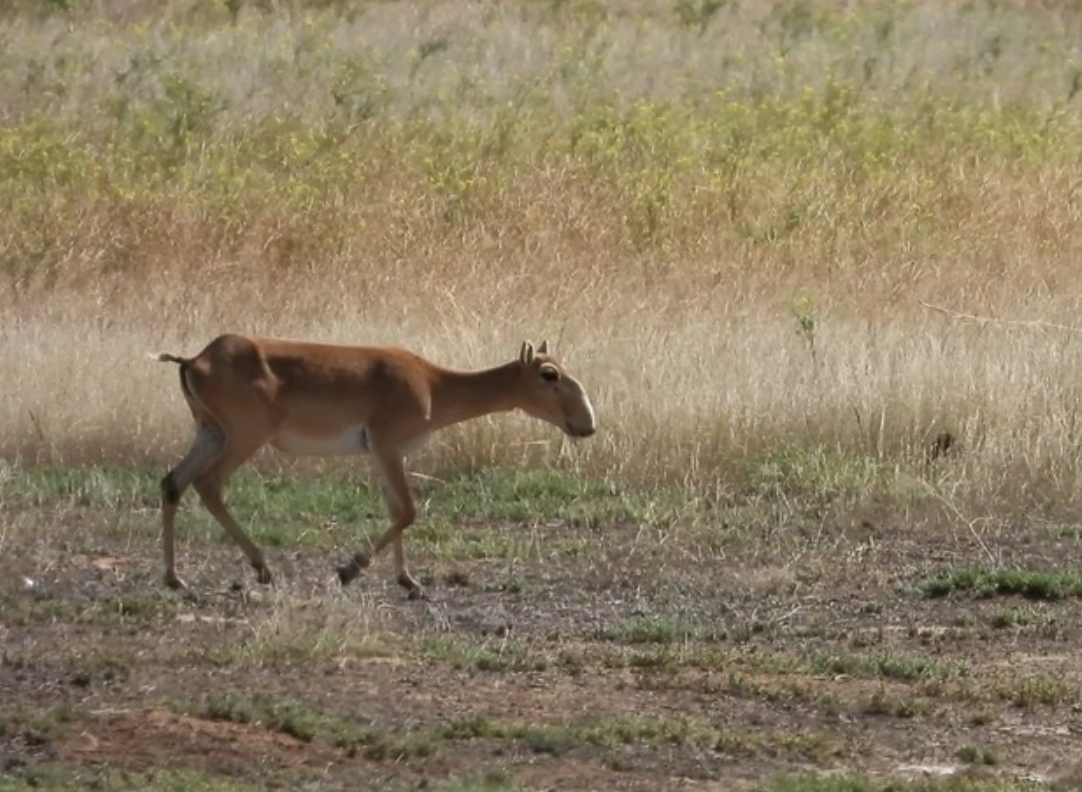saiga: (142, 292, 595, 654)
